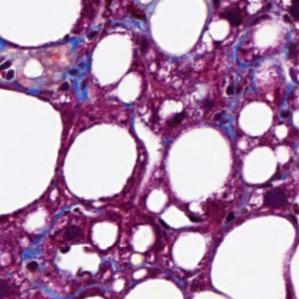inflammation: (44, 223, 88, 253), (216, 73, 245, 98)
